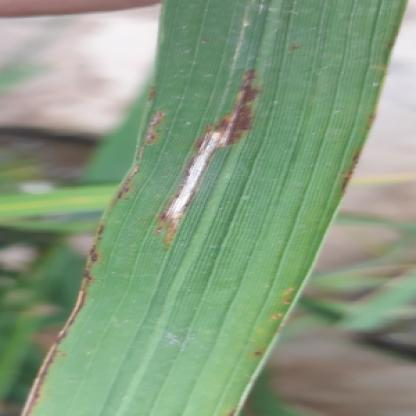Rice blast: (144, 70, 291, 252)
